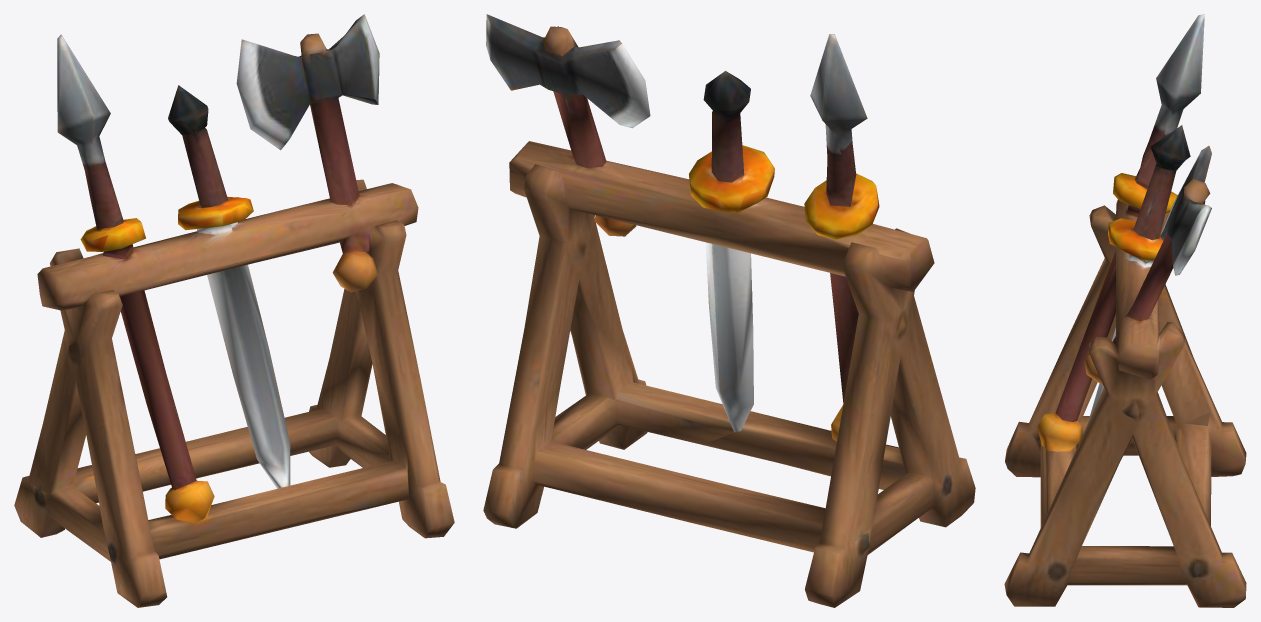
File: sz-weapon-rack.glb
3 renders of one model, left to right at view 1: azimuth 30°, elevation 25°; view 2: azimuth 150°, elevation 25°; view 3: azimuth 270°, elevation 25°, orthographic. The views are drawn at different scales.
Parts seen in each view (by area): view 1: geometry_0; view 2: geometry_0; view 3: geometry_0.
Part boxes in pixels (x1,y1,x2,y2): geometry_0: (14,14,454,607); geometry_0: (483,14,975,607); geometry_0: (1004,14,1246,607).
Bounding box in the file's own units: 0.7602 × 1 × 0.4708.
Materials: 1 (1 with a texture image).
